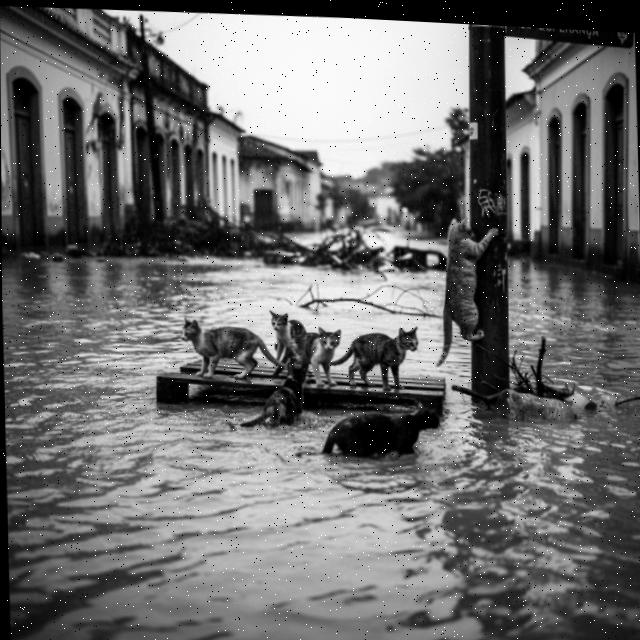cat: (421, 211, 508, 374), (310, 390, 449, 474), (167, 308, 284, 378), (227, 353, 314, 438), (327, 322, 421, 393), (269, 318, 344, 389), (262, 306, 309, 365)
